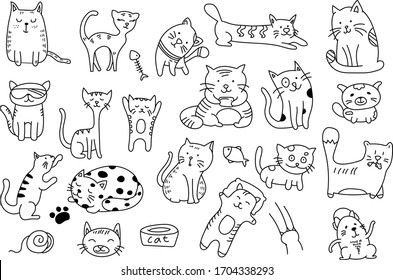cat: (321, 126, 392, 200), (203, 3, 310, 50), (179, 64, 255, 130), (3, 1, 73, 70), (325, 1, 386, 74), (199, 182, 257, 258), (1, 150, 63, 221), (78, 7, 140, 73), (156, 136, 215, 205), (58, 87, 113, 161), (261, 60, 316, 131), (66, 164, 144, 213), (152, 16, 210, 78), (1, 79, 52, 142), (253, 143, 317, 192), (327, 209, 382, 262), (121, 93, 163, 152), (331, 82, 383, 124), (77, 221, 128, 258)
fish: (221, 145, 250, 167)
